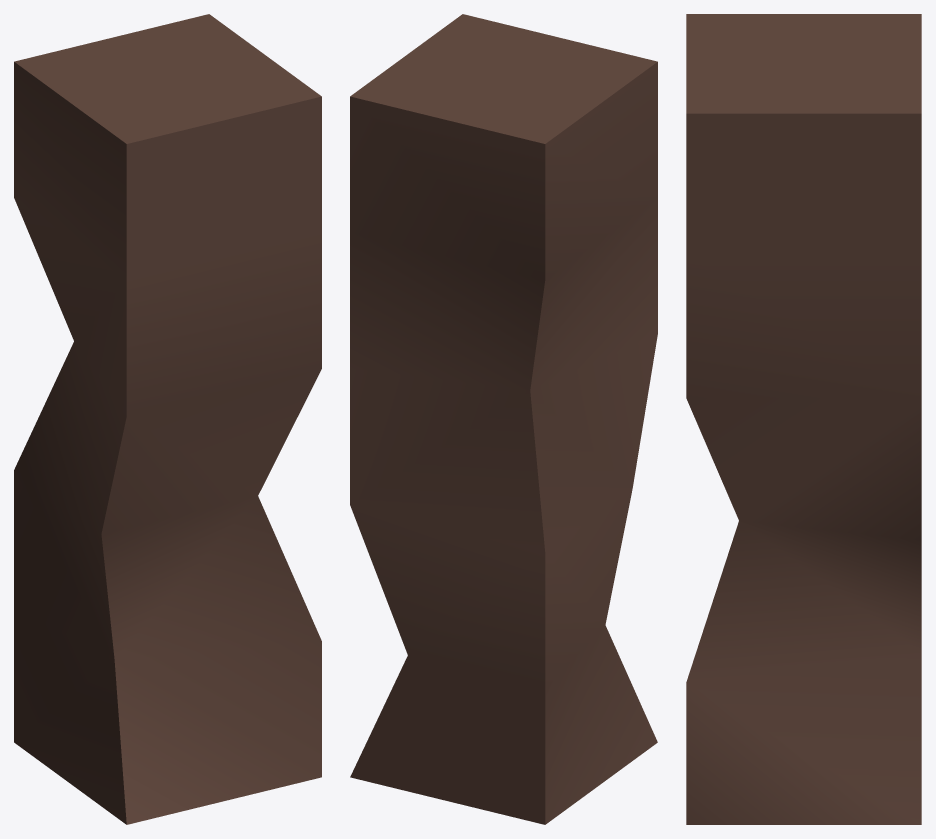
Rendered from Wood Pillar Main.fbx.
3 views of the same model, side by side, from view 1: azimuth 30°, elevation 25°; view 2: azimuth 150°, elevation 25°; view 3: azimuth 270°, elevation 25° (orthographic). The views are drawn at different scales.
Parts seen in each view (by area): view 1: Wood_Pillar_Main; view 2: Wood_Pillar_Main; view 3: Wood_Pillar_Main.
Part boxes in pixels (x1,y1,x2,y2): Wood_Pillar_Main: [14, 14, 321, 824]; Wood_Pillar_Main: [350, 14, 657, 824]; Wood_Pillar_Main: [686, 14, 921, 824].
Size of the model in its own units: 0.3 by 1 by 0.3.
